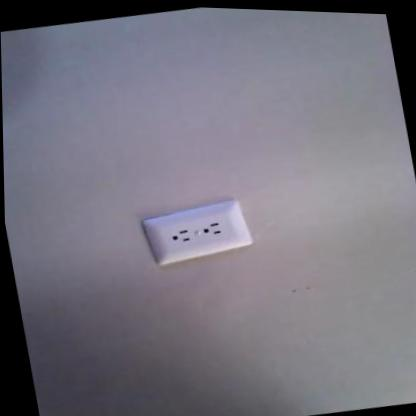OUTLET: (139, 193, 254, 270)
